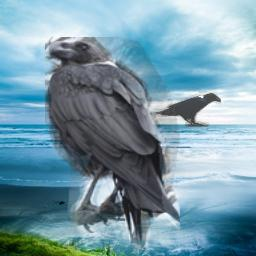Crow: (45, 37, 180, 250), (152, 92, 221, 127)
